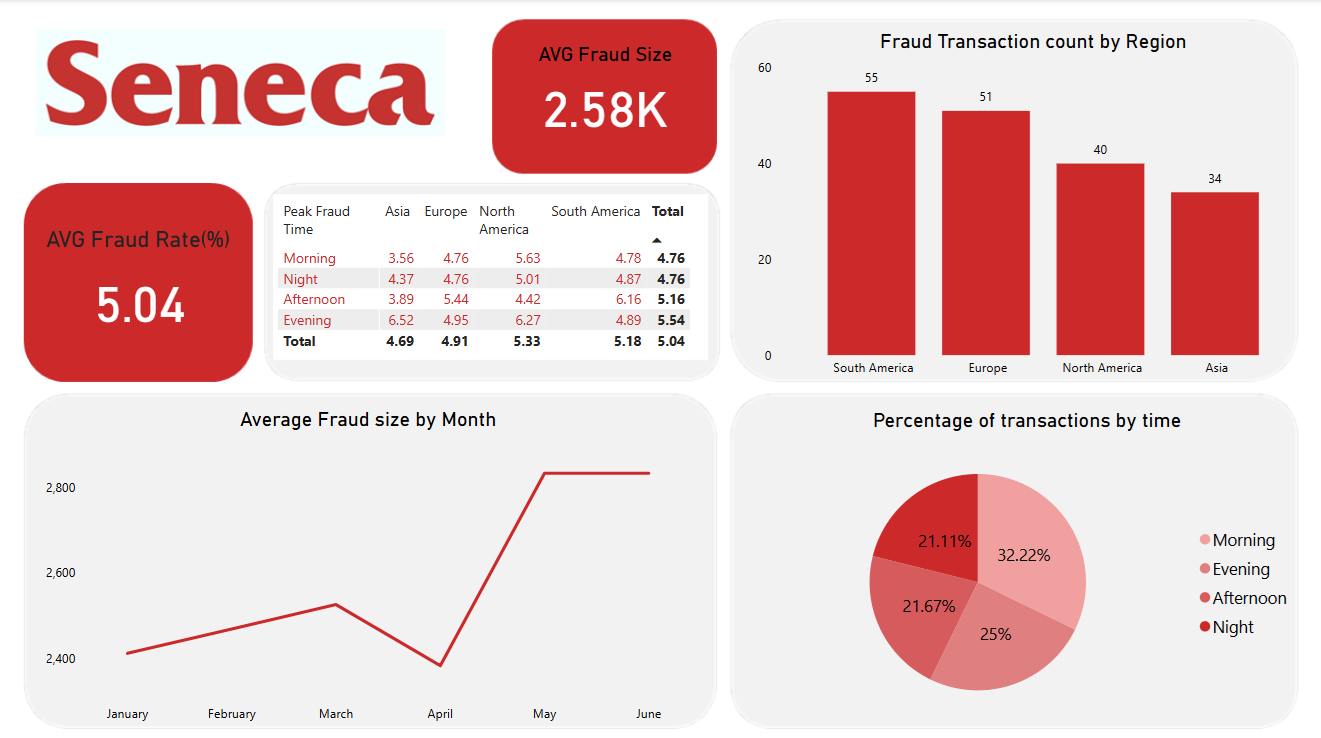

This screenshot's page, from the dashboard's own definition file:
{"tool":"powerbi","page":{"name":"Page 1","canvas":[1280,720],"ordinal":0},"visuals":[{"type":"lineChart","title":"Average Fraud size by Month","fields":{"Category":["Sheet1.Date.Variation.Date Hierarchy.Month"],"Y":["Sheet1.Avg_Fraud_Size_By_Month"]},"box":[41.2,395,632.5,313.8],"z":0},{"type":"card","title":"AVG Fraud Size","fields":{"Values":["Sheet1.Avg_Fraud_Size_By_Month"]},"box":[506.2,42.5,158.8,96.2],"z":1000},{"type":"clusteredColumnChart","title":"Fraud Transaction count  by Region","fields":{"Category":["Sheet1.Region"],"Y":["CountNonNull(Sheet1.Average Fraud Transaction Size ($))"]},"box":[728.8,30,541.2,343.8],"z":2000},{"type":"card","title":"AVG Fraud Rate(%)","fields":{"Values":["Avg(Sheet1.Fraud Rate (%))"]},"box":[41.2,220,191.2,115],"z":3000},{"type":"pieChart","title":"Percentage of transactions by time","fields":{"Category":["Sheet1.Peak Fraud Time"],"Y":["CountNonNull(Sheet1.Average Fraud Transaction Size ($))"]},"box":[728.5,395.4,529.2,313.1],"z":4000},{"type":"pivotTable","fields":{"Columns":["Sheet1.Region"],"Rows":["Sheet1.Peak Fraud Time"],"Values":["Avg(Sheet1.Fraud Rate (%))"]},"box":[265,188.8,420,160],"z":5000}]}

Visuals, with their boxes in screenshot pixels (x1, y1, x2, y2), scaled from the page's 1280x720 canvas onto the 1321x738 screenshot:
"Average Fraud size by Month" lineChart: [left=43, top=405, right=695, bottom=727]
"AVG Fraud Size" card: [left=522, top=44, right=686, bottom=142]
"Fraud Transaction count  by Region" clusteredColumnChart: [left=752, top=31, right=1311, bottom=383]
"AVG Fraud Rate(%)" card: [left=43, top=225, right=240, bottom=343]
"Percentage of transactions by time" pieChart: [left=752, top=405, right=1298, bottom=726]
pivotTable - Sheet1.Region x Sheet1.Peak Fraud Time: [left=273, top=194, right=707, bottom=358]
